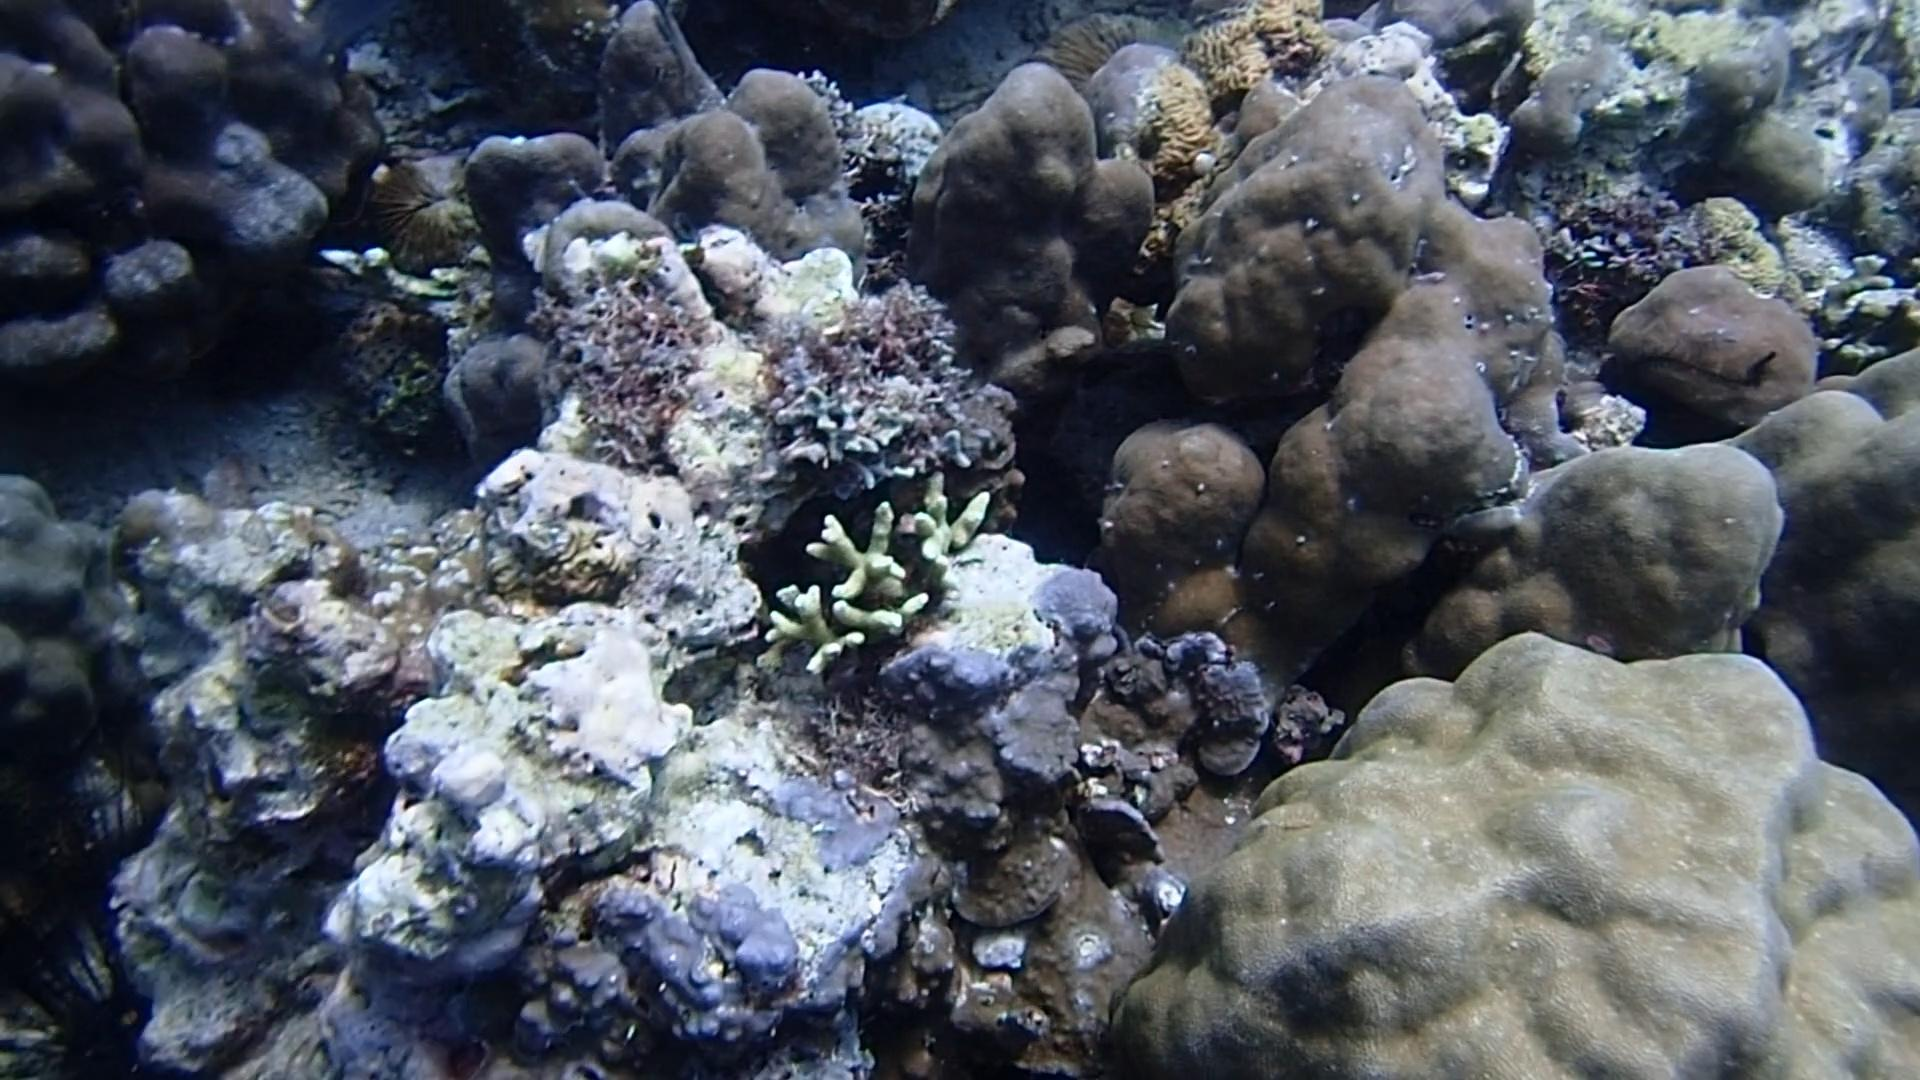Blue Fish Two: (287, 0, 401, 74)
